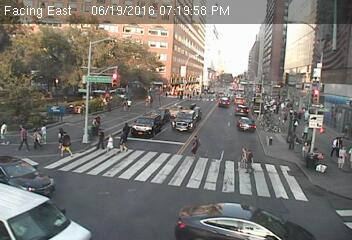neg: (254, 188, 274, 215), (25, 168, 43, 191), (10, 194, 27, 217), (295, 183, 311, 204), (130, 46, 145, 66), (120, 4, 135, 24), (170, 29, 185, 49), (72, 82, 86, 102), (43, 198, 57, 216), (145, 168, 158, 186), (46, 88, 59, 106), (118, 36, 131, 53), (84, 2, 97, 19), (107, 181, 119, 198), (127, 174, 139, 190), (12, 80, 24, 95), (302, 45, 313, 61), (177, 200, 188, 216), (248, 19, 259, 34), (155, 29, 166, 44), (66, 171, 77, 186), (207, 185, 218, 200), (146, 198, 157, 213), (317, 54, 328, 69), (334, 95, 345, 110), (45, 7, 55, 22), (99, 211, 109, 225), (12, 44, 22, 58), (317, 24, 327, 38), (193, 22, 203, 35), (157, 137, 167, 150), (180, 165, 190, 178), (310, 87, 320, 100), (240, 120, 249, 133), (283, 146, 292, 158), (167, 120, 176, 132), (158, 2, 167, 14), (273, 68, 281, 79), (214, 41, 222, 52), (78, 46, 86, 56), (245, 44, 253, 54), (106, 68, 113, 79), (282, 34, 289, 44), (209, 93, 216, 103), (163, 179, 170, 188), (220, 112, 227, 121), (196, 105, 202, 112), (181, 112, 186, 119), (157, 154, 162, 161), (40, 54, 43, 58)
pos: (113, 121, 136, 152), (56, 130, 77, 158), (14, 124, 33, 150), (241, 146, 260, 171), (333, 142, 351, 168), (234, 146, 252, 171), (187, 133, 205, 158), (27, 127, 44, 149), (101, 132, 117, 153), (327, 133, 343, 154), (35, 123, 50, 143), (94, 130, 108, 150), (89, 110, 103, 129), (53, 126, 67, 144), (142, 93, 153, 108), (124, 97, 135, 111), (120, 98, 130, 112)
